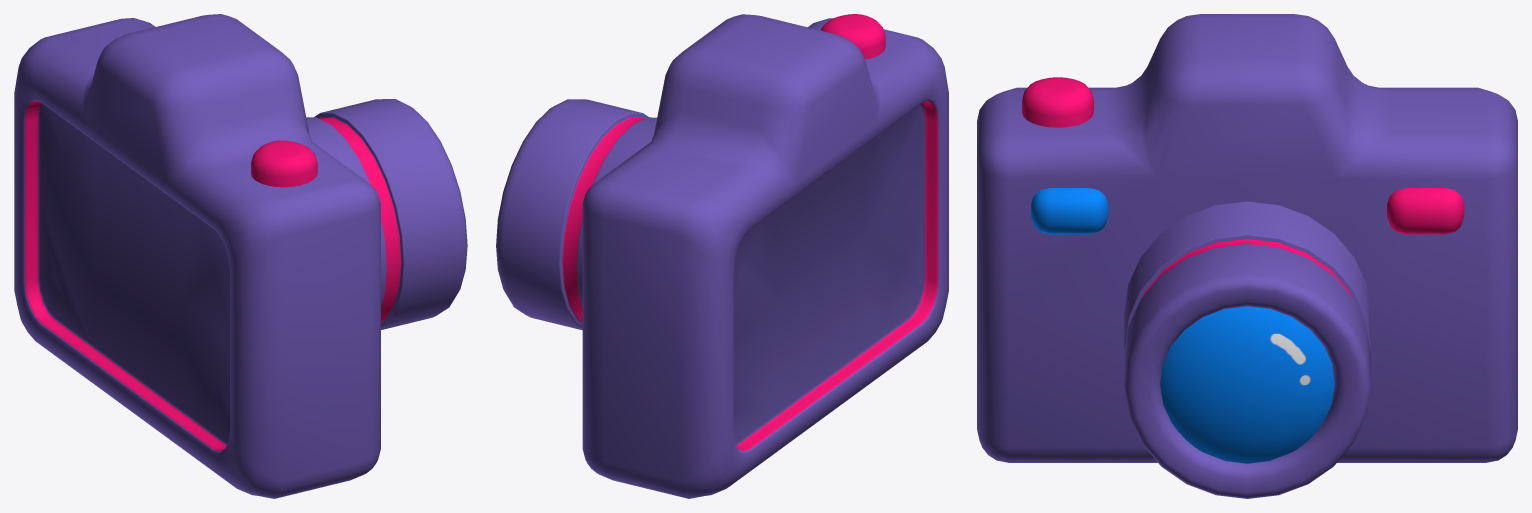
3 views of the same model, side by side, from view 1: azimuth 30°, elevation 25°; view 2: azimuth 150°, elevation 25°; view 3: azimuth 270°, elevation 25° (orthographic). The views are drawn at different scales.
Visible parts, largest first — view 1: camera; view 2: camera; view 3: camera.
Part boxes in pixels (left/top/right/bottom): camera: left=14, top=14, right=467, bottom=498; camera: left=496, top=14, right=948, bottom=498; camera: left=977, top=14, right=1517, bottom=498.
Bounding box in the file's own units: 1.38 × 1.63 × 2.
1 material, 1 textured.
